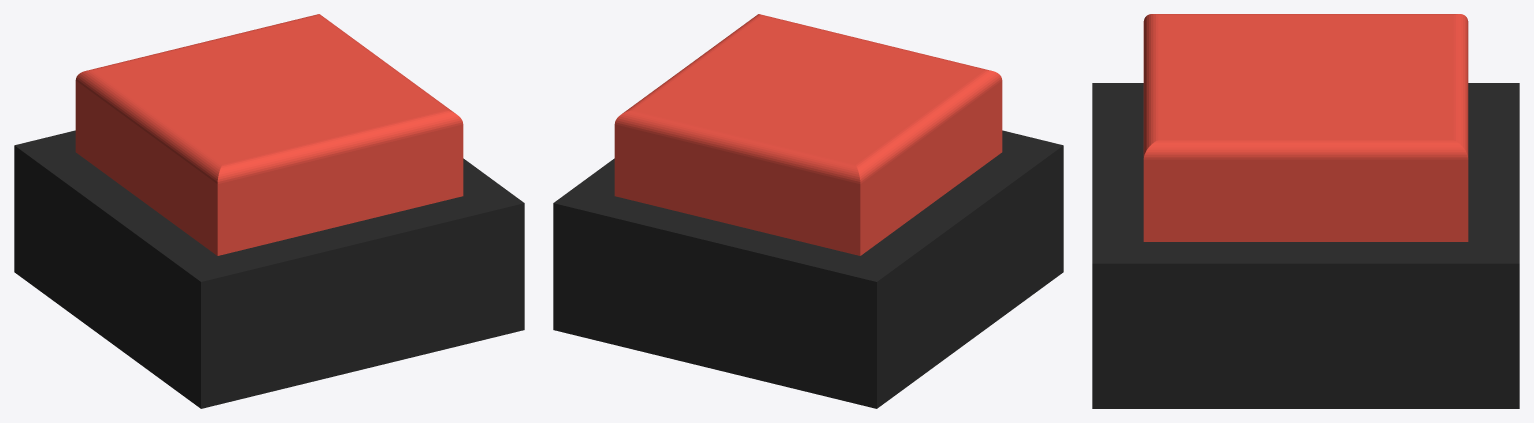
File: SquareButton.fbx
3 views of the same model, side by side, from view 1: azimuth 30°, elevation 25°; view 2: azimuth 150°, elevation 25°; view 3: azimuth 270°, elevation 25° (orthographic). The views are drawn at different scales.
Visible parts, largest first — view 1: Square_Button_Base, Square_Button; view 2: Square_Button_Base, Square_Button; view 3: Square_Button_Base, Square_Button.
Part boxes in pixels (<box>): Square_Button_Base: <box>14,130,524,408</box>; Square_Button: <box>75,14,463,255</box>; Square_Button_Base: <box>553,130,1063,408</box>; Square_Button: <box>614,14,1002,255</box>; Square_Button_Base: <box>1092,83,1519,408</box>; Square_Button: <box>1143,14,1468,241</box>.
Bounding box in the file's own units: 200 × 124 × 200.
